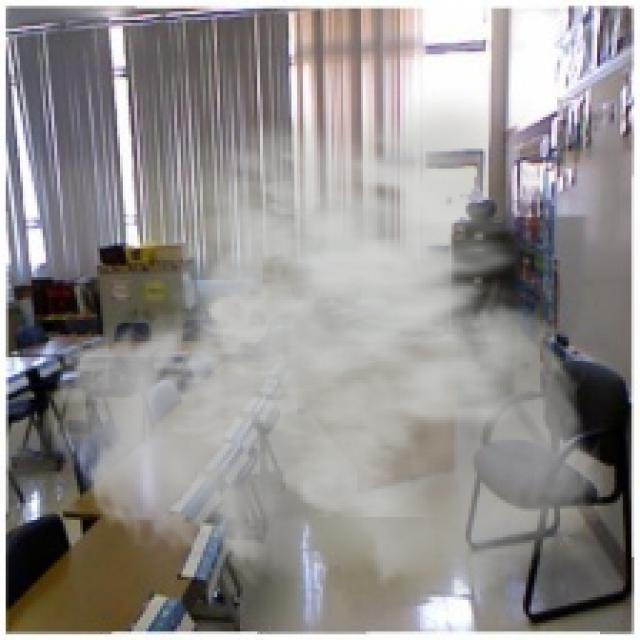Smoke: (46, 88, 608, 603)
